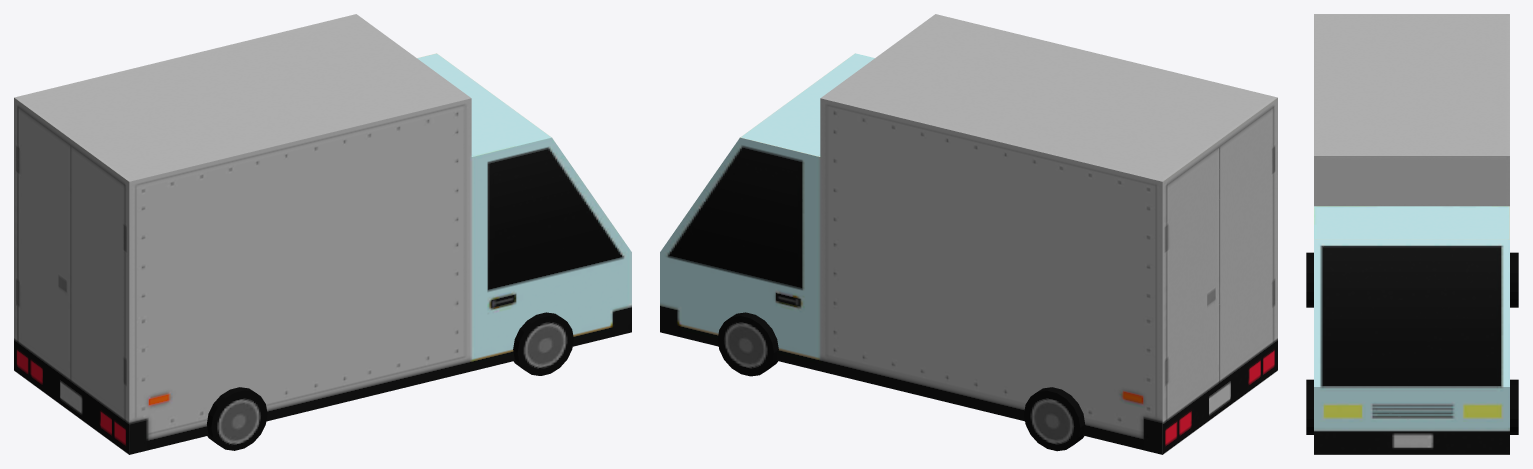
Rendered from truck.obj.
3 views of the same model, side by side, from view 1: azimuth 30°, elevation 25°; view 2: azimuth 150°, elevation 25°; view 3: azimuth 270°, elevation 25° (orthographic). The views are drawn at different scales.
Visible parts, largest first — view 1: Car_09; view 2: Car_09; view 3: Car_09.
Part boxes in pixels (box(x1,y1,x2,y2)): Car_09: box(14, 14, 631, 454); Car_09: box(660, 14, 1277, 454); Car_09: box(1306, 14, 1518, 454).
Bounding box in the file's own units: 8.73 × 4.82 × 3.75.
1 material, 1 textured.
